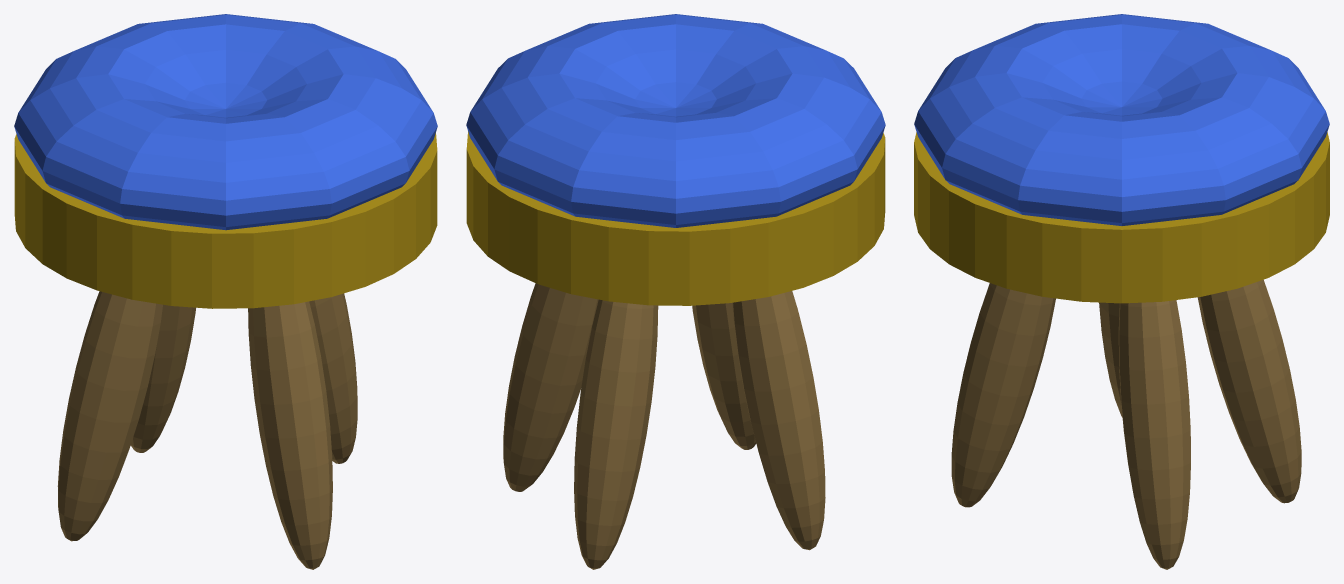
Rendered from BancoGato.fbx.
3 views of the same model, side by side, from view 1: azimuth 30°, elevation 25°; view 2: azimuth 150°, elevation 25°; view 3: azimuth 270°, elevation 25° (orthographic).
Visible parts, largest first — view 1: Sphere.002, Cylinder, Sphere.004, Sphere.003, Sphere.005, Sphere.006; view 2: Sphere.002, Cylinder, Sphere.006, Sphere.003, Sphere.005, Sphere.004; view 3: Sphere.002, Cylinder, Sphere.005, Sphere.004, Sphere.006, Sphere.003.
Boxes of the visible parts, x1,y1,x2,y2 form: Sphere.002: (14,14,437,230); Cylinder: (14,133,437,308); Sphere.004: (248,301,332,569); Sphere.003: (57,291,162,541); Sphere.005: (309,293,357,463); Sphere.006: (130,304,195,452); Sphere.002: (466,14,885,227); Cylinder: (466,131,885,305); Sphere.006: (574,299,658,569); Sphere.003: (732,291,825,550); Sphere.005: (503,283,598,491); Sphere.004: (692,303,756,449); Sphere.002: (914,14,1329,225); Cylinder: (914,132,1329,303); Sphere.005: (1118,300,1190,569); Sphere.004: (951,283,1055,507); Sphere.006: (1197,279,1301,503); Sphere.003: (1099,302,1122,417).
Size of the model in its own units: 200 by 229 by 200.
